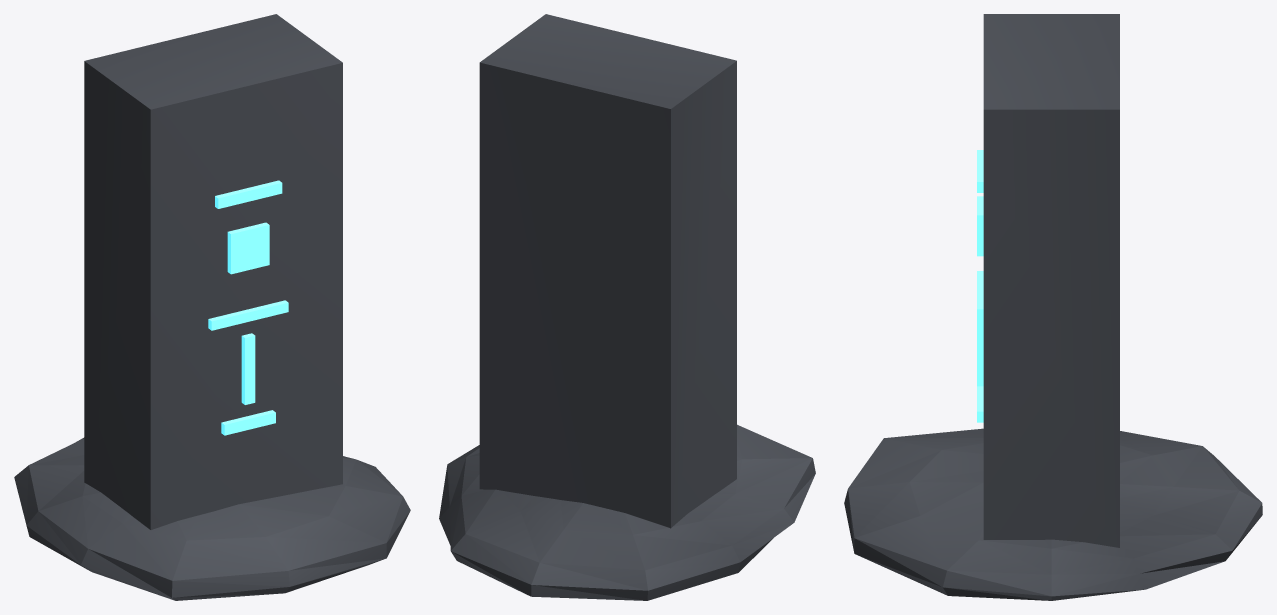
File: pedra_runica.glb
The picture shows the model from 3 angles, left to right: view 1: azimuth 30°, elevation 25°; view 2: azimuth 150°, elevation 25°; view 3: azimuth 270°, elevation 25°; orthographic projection. The views are drawn at different scales.
Parts seen in each view (by area): view 1: Prop; view 2: Prop; view 3: Prop.
Boxes of the visible parts, x1=… form: Prop: x1=14, y1=14, x2=410, y2=600; Prop: x1=439, y1=14, x2=815, y2=600; Prop: x1=844, y1=14, x2=1262, y2=600.
Bounding box in the file's own units: 2.51 × 3.4 × 2.77.
